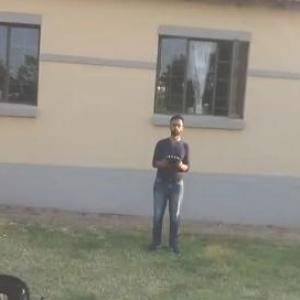follow: (146, 108, 192, 259)
null: (0, 267, 49, 299)
